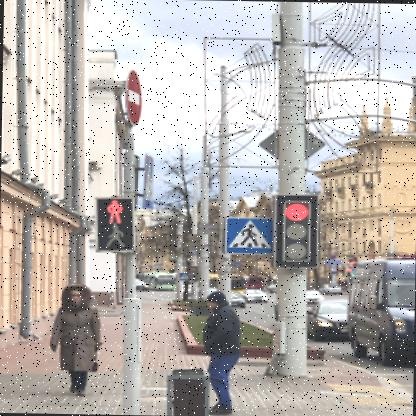crosswalk: (221, 214, 274, 251), (177, 271, 188, 280)
trafficlight: (90, 194, 134, 253), (279, 198, 309, 260)
